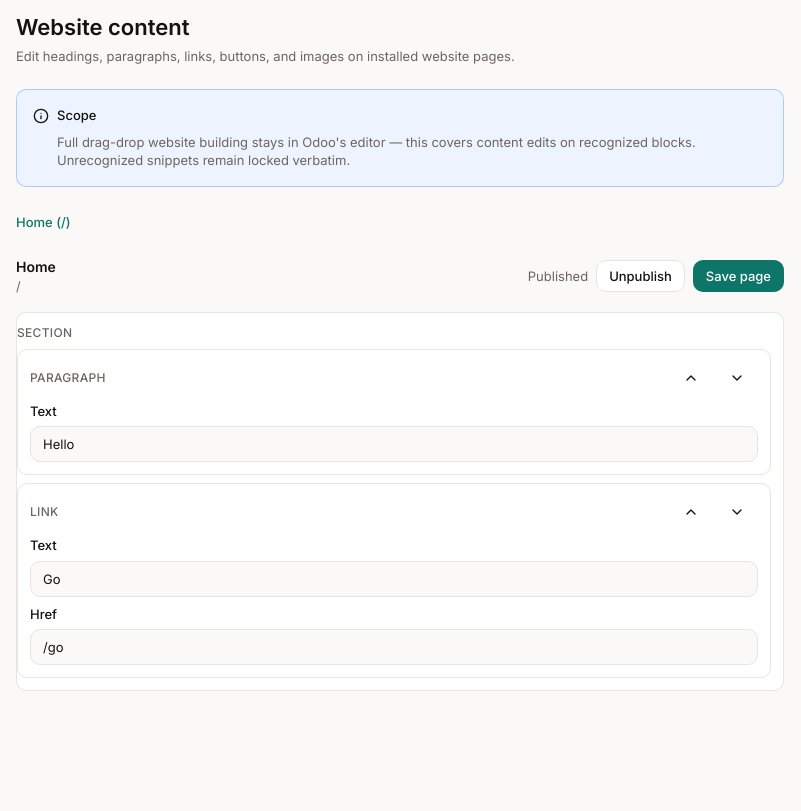
Test: WebsiteEditor › renders harness blocks and saves
This screenshot has width=801, height=811.
Expected: the element with test id "website-editor-panel" is shown, [16,256,784,691]
Replace the text in the field with test id "block-text-p-1" with "Updated" at (394, 444), box [30,426,758,462]
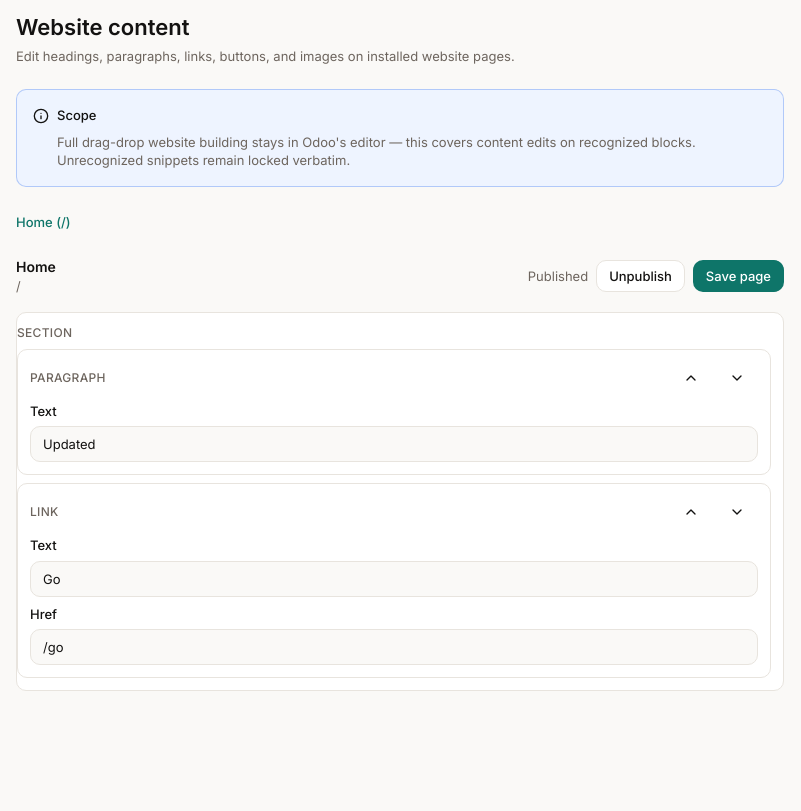
Click the button with test id "website-save" at (738, 276), box [693,260,784,292]
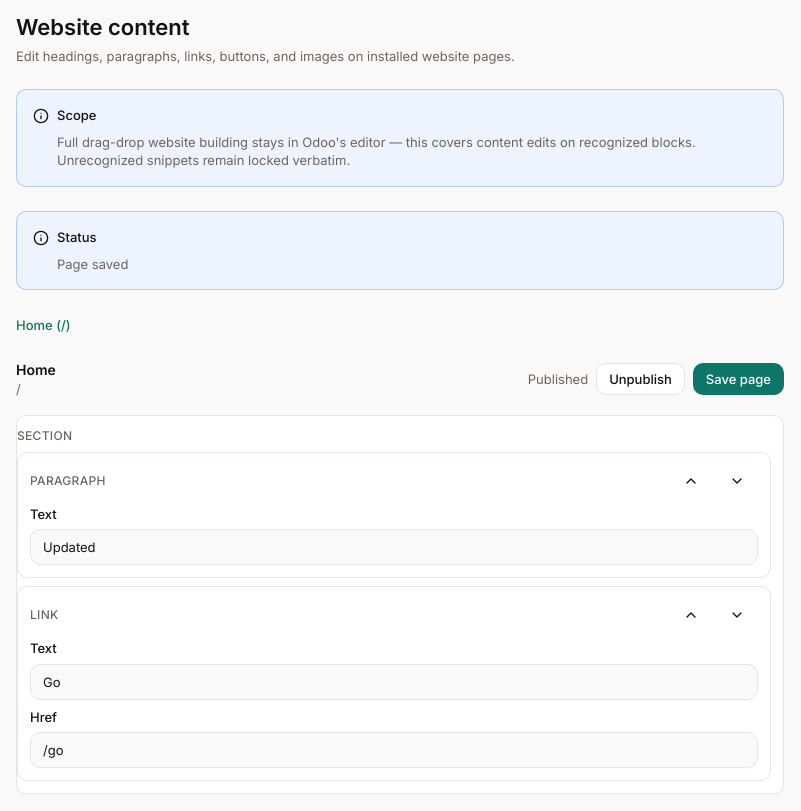
Expected: the text "Page saved" is shown, [57,256,128,272]
